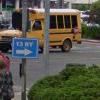Bus: (9, 5, 86, 48)
